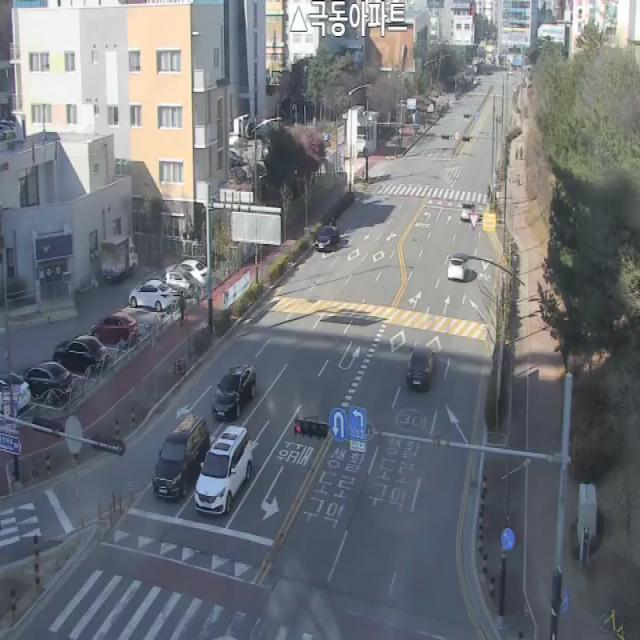Car: (195, 424, 252, 516), (153, 414, 210, 501), (212, 364, 256, 420), (21, 361, 74, 406), (53, 334, 108, 375), (102, 232, 138, 281), (90, 312, 137, 347), (0, 371, 32, 417), (407, 347, 436, 392), (155, 271, 200, 299), (129, 282, 174, 309), (164, 257, 208, 282), (315, 226, 339, 252), (448, 257, 465, 282), (461, 202, 476, 221)
